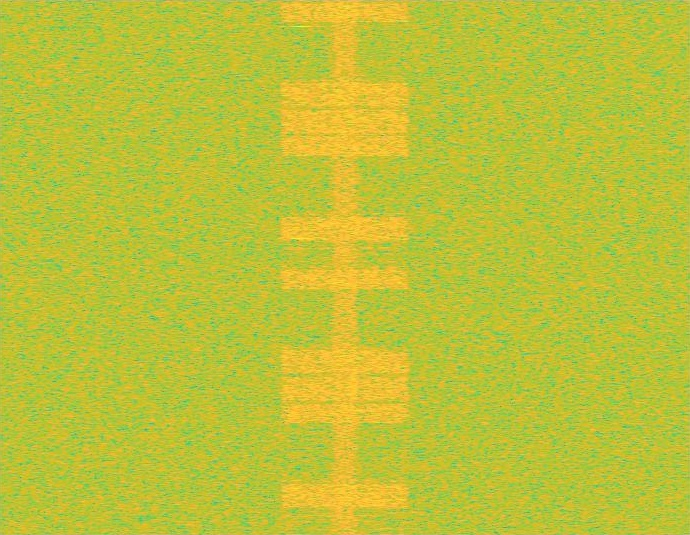DSSS: (329, 0, 361, 534)
LTE: (276, 0, 414, 534)
Radar: (295, 0, 308, 534)
